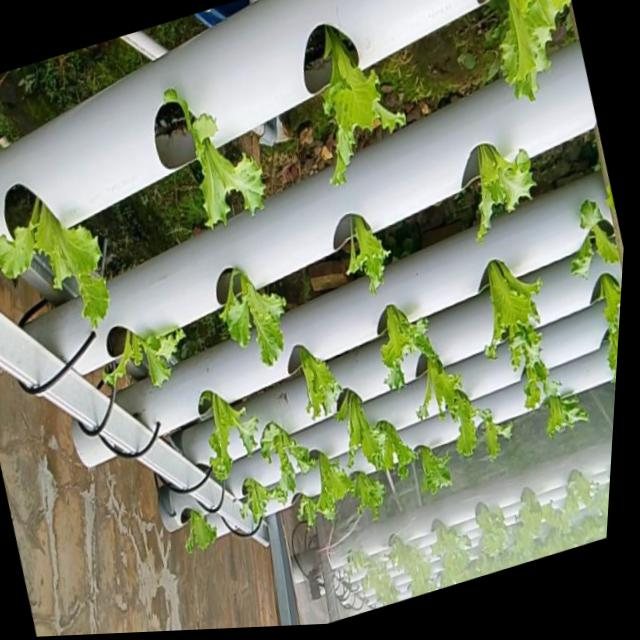Baby: (0, 193, 109, 323), (164, 84, 265, 223), (323, 21, 406, 180), (220, 266, 286, 364), (500, 0, 566, 95), (416, 351, 490, 434), (475, 141, 534, 238), (334, 386, 399, 468), (199, 388, 258, 478), (398, 412, 458, 500), (101, 327, 185, 388), (259, 418, 315, 498), (487, 256, 539, 341), (298, 449, 352, 526), (501, 298, 547, 386), (571, 196, 619, 275), (294, 342, 342, 416), (348, 212, 389, 290), (380, 302, 418, 385), (239, 475, 286, 527), (476, 404, 513, 458), (545, 391, 589, 436), (351, 469, 385, 517), (185, 510, 217, 553), (607, 322, 619, 387)
